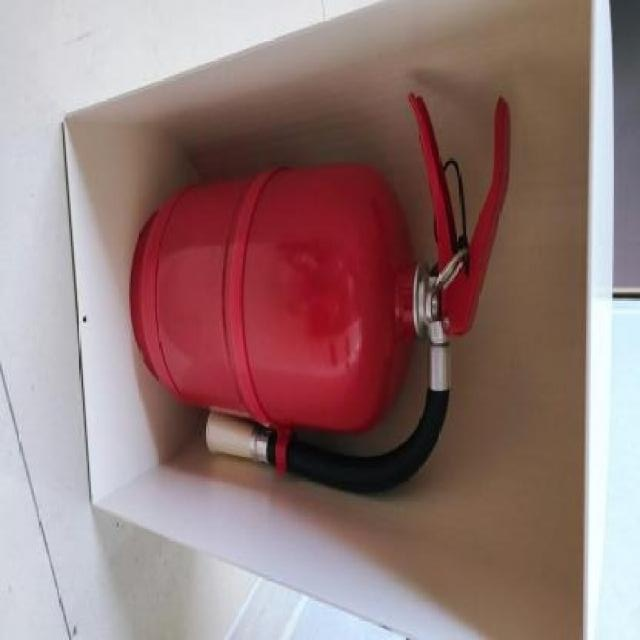fire extinguisher: (129, 90, 511, 498)
